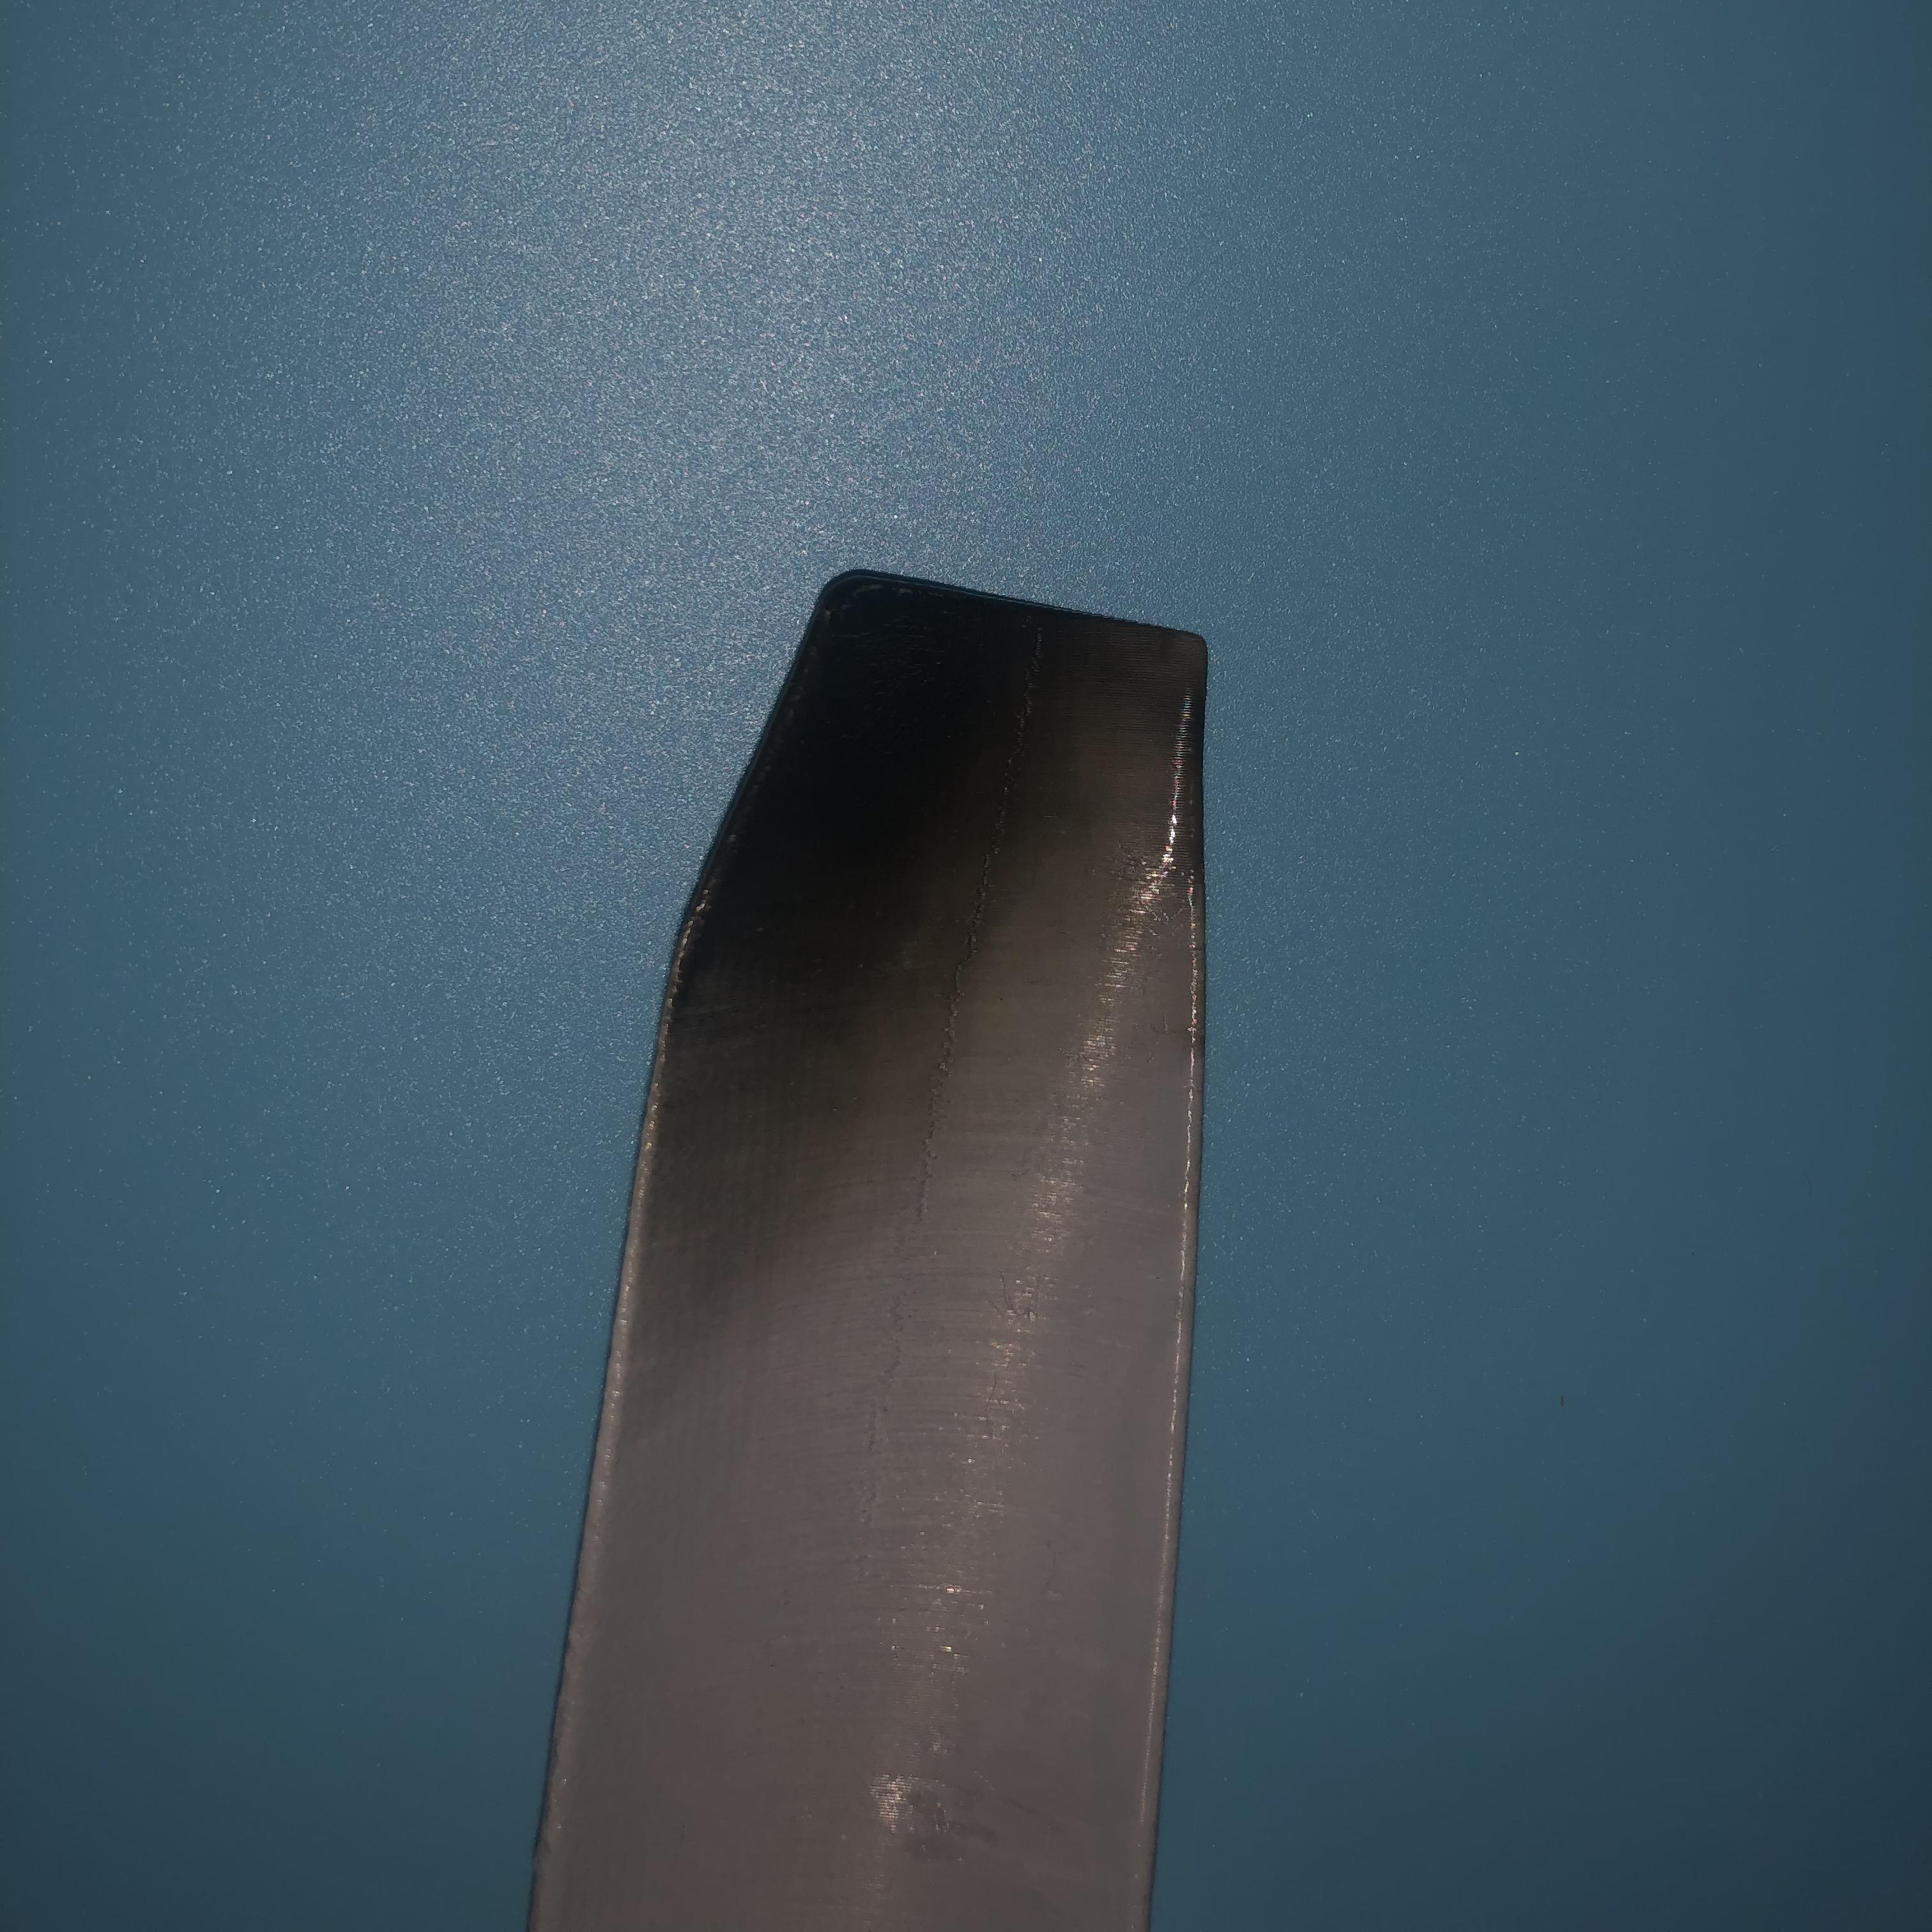ablation: (718, 596, 1168, 1187)
